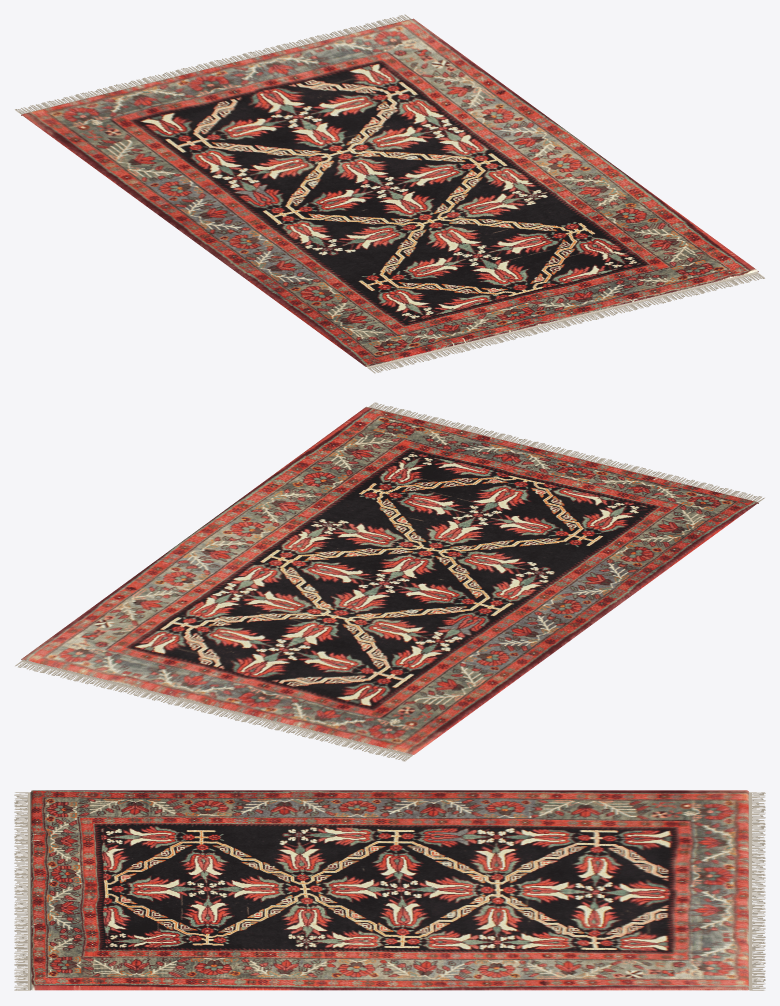
Rendered from sirjan-2015-016.glb.
The picture shows the model from 3 angles, top to bottom: view 1: azimuth 30°, elevation 25°; view 2: azimuth 150°, elevation 25°; view 3: azimuth 270°, elevation 25°; orthographic projection. The views are drawn at different scales.
Visible parts, largest first — view 1: rug; view 2: rug; view 3: rug.
Boxes of the visible parts, x1=… form: rug: x1=15, y1=14, x2=764, y2=373; rug: x1=15, y1=402, x2=764, y2=761; rug: x1=14, y1=790, x2=765, y2=990.
Size of the model in its own units: 1.5 by 0.0122 by 2.39.
Materials: 9 (8 with a texture image).
